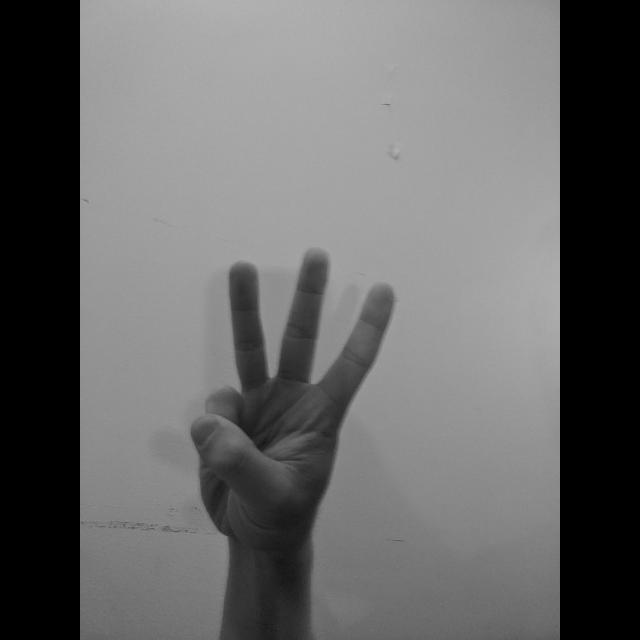W: (185, 242, 398, 550)
